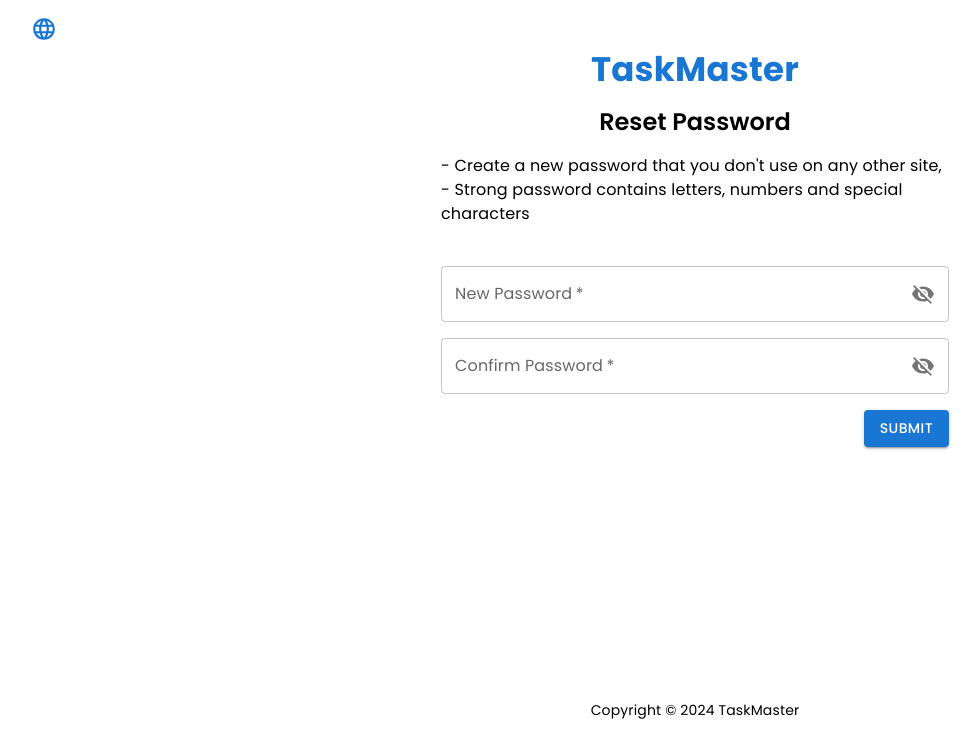
Test case: LanguageSwitch component testing › Should change language to bosnian on resetPassword page
Click the button named "LanguageBtn" at [44, 29], box [12,10,76,48]
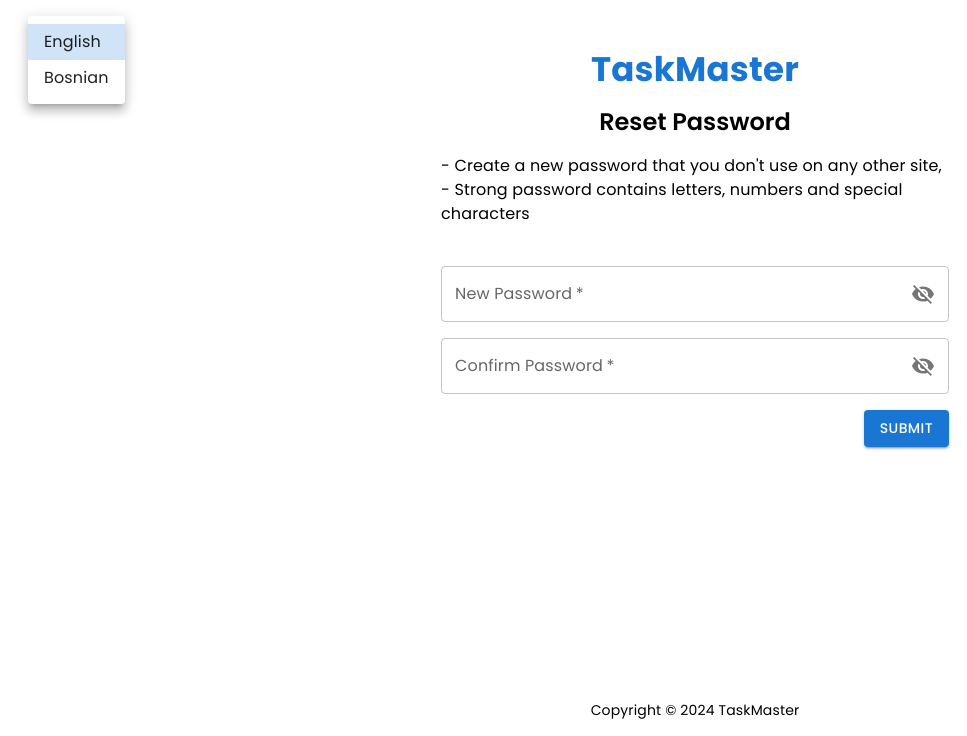
Expected: the menu item with aria-label "BosnianLngItem" is shown
Click the menu item with aria-label "BosnianLngItem" at [76, 78], box [44,66,109,89]
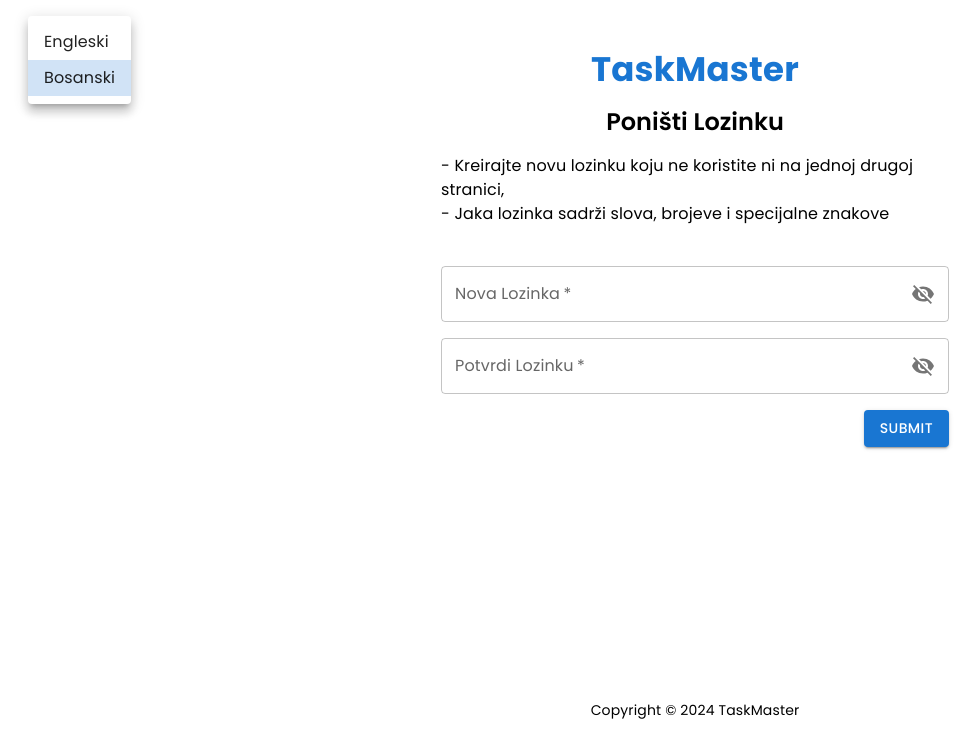
Expected: the heading "Poništi Lozinku" is shown, [606,106,784,138]
